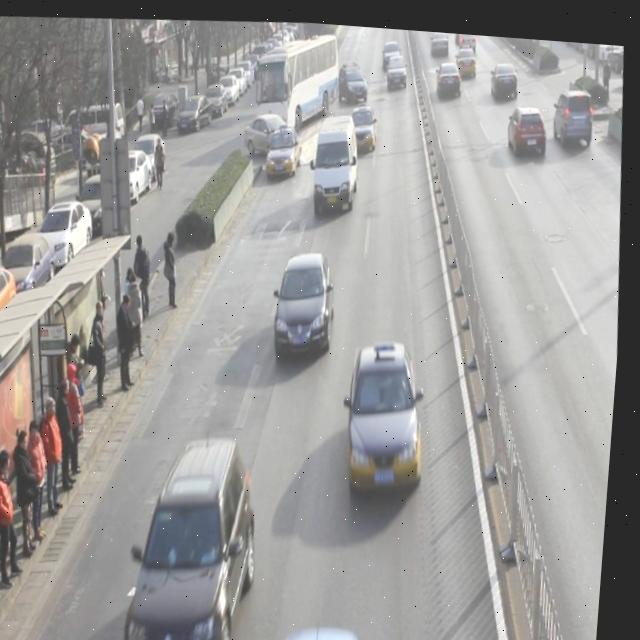car: (121, 425, 277, 640), (347, 333, 436, 491), (275, 244, 345, 357), (243, 107, 303, 157), (552, 77, 597, 139), (507, 96, 552, 151), (265, 119, 306, 177), (348, 98, 381, 149), (337, 54, 372, 101), (490, 54, 522, 95), (435, 54, 466, 95), (385, 48, 410, 86), (454, 38, 479, 74)
truck: (310, 107, 366, 214)
van: (253, 29, 346, 135)
